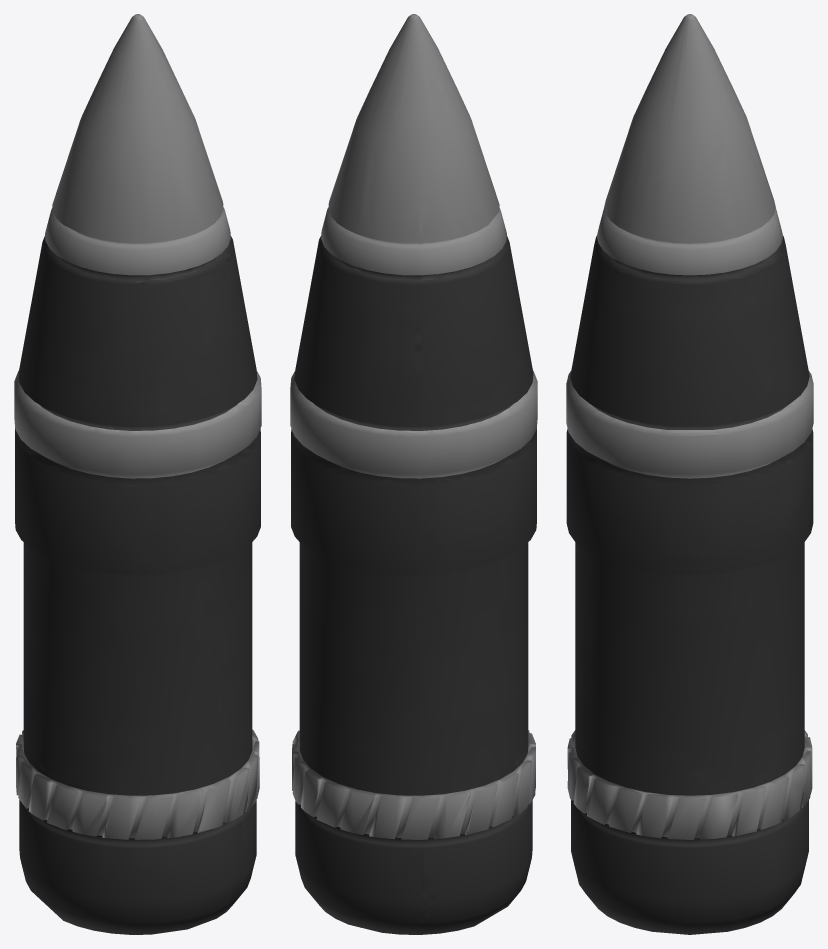
File: shell.glb
The picture shows the model from 3 angles, left to right: view 1: azimuth 30°, elevation 25°; view 2: azimuth 150°, elevation 25°; view 3: azimuth 270°, elevation 25°; orthographic projection.
Size of the model in its own units: 0.584 by 2.31 by 0.584.
Materials: 1 (1 with a texture image).
